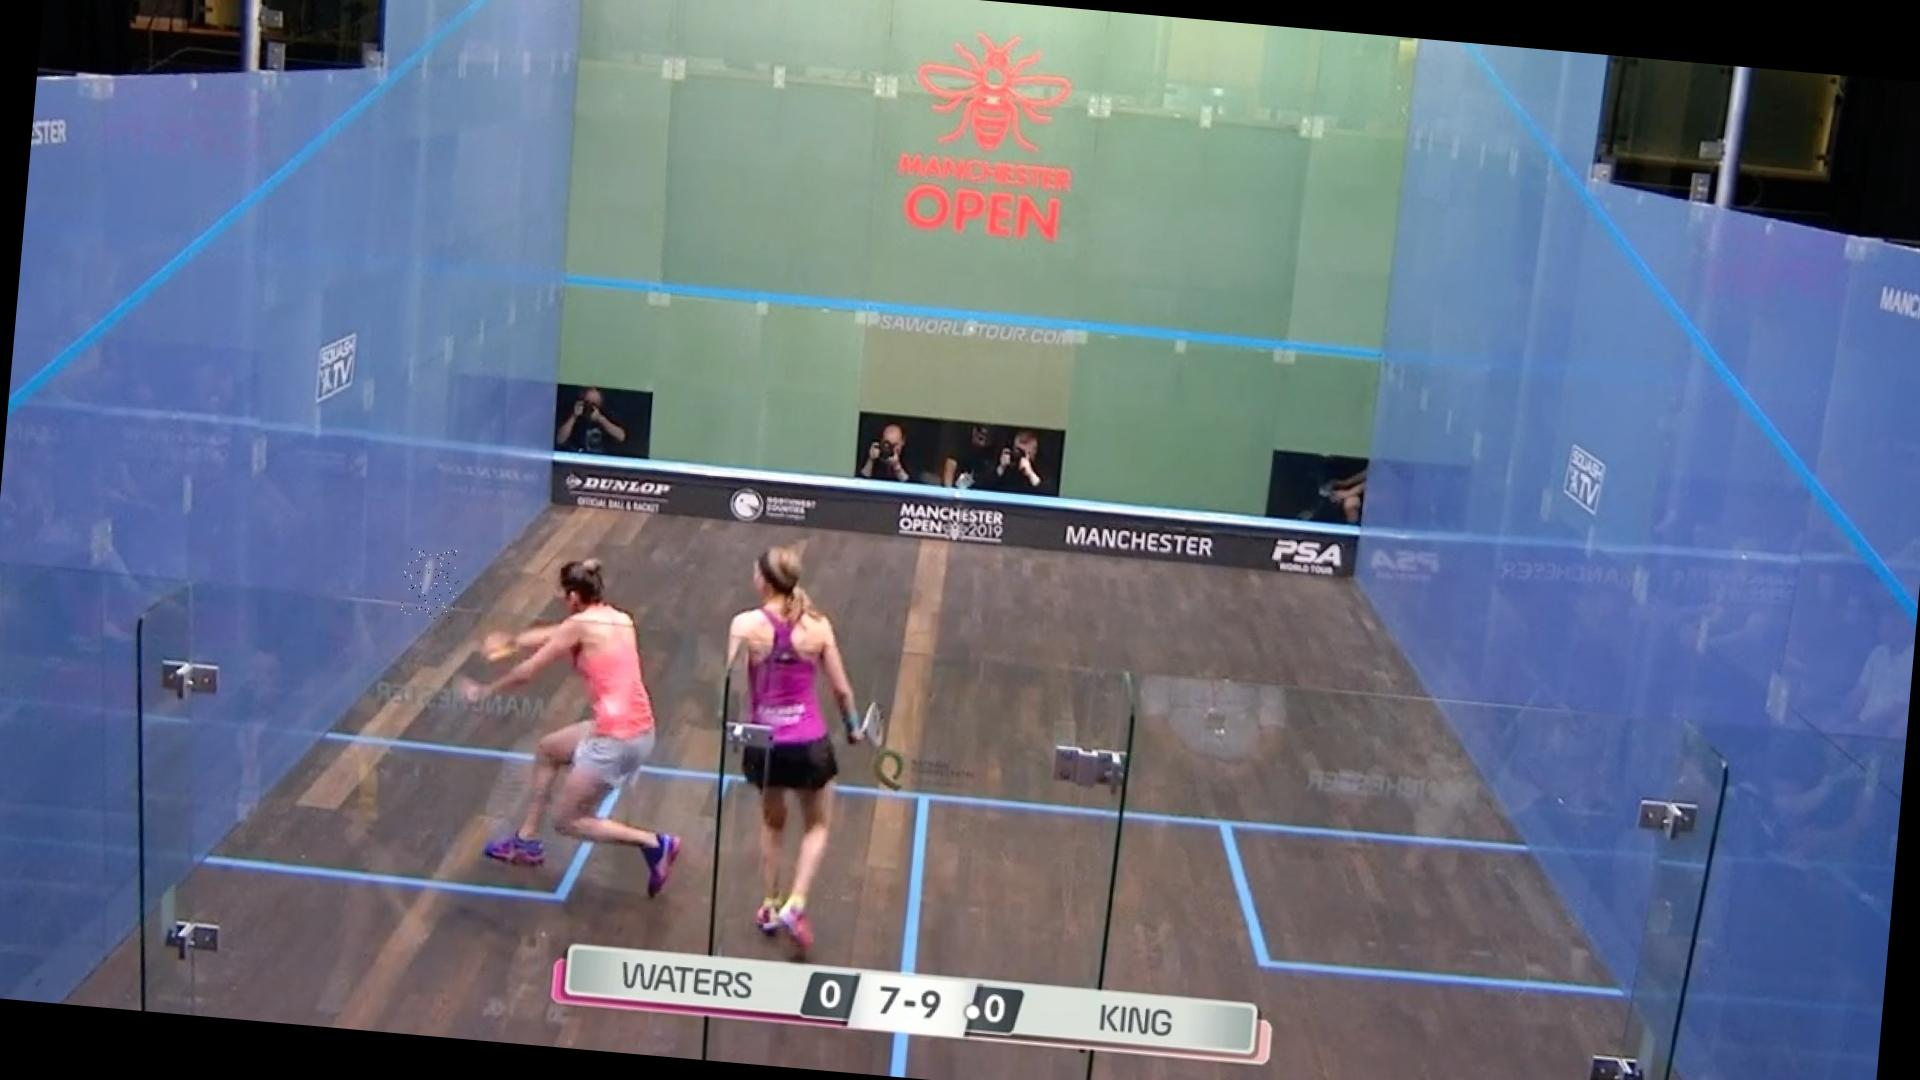Squash-Ball: (400, 546, 462, 620)
